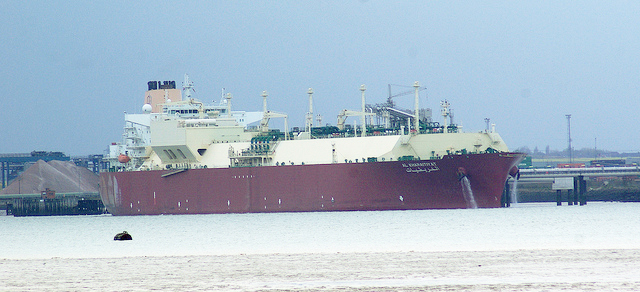LNG_ship: (99, 71, 520, 202)
